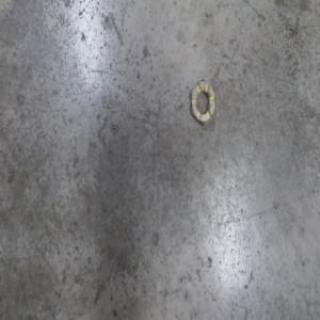Nuttrack_idkeyframe: (190, 77, 215, 127)
